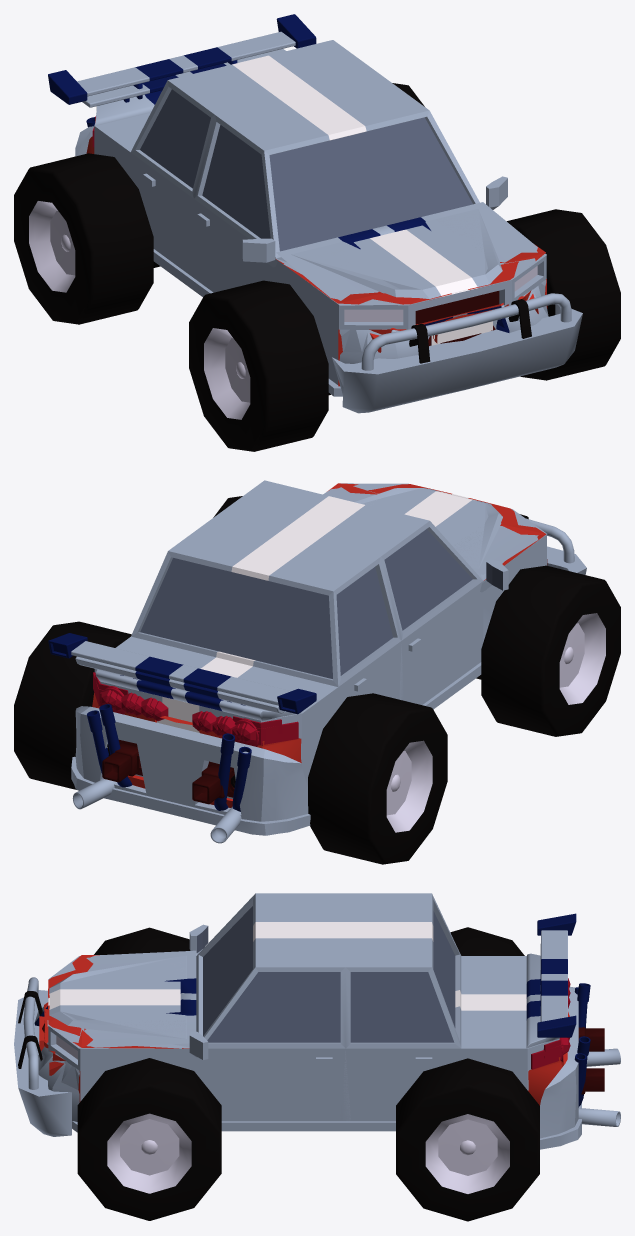
File: SUV.fbx
The picture shows the model from 3 angles, top to bottom: view 1: azimuth 30°, elevation 25°; view 2: azimuth 150°, elevation 25°; view 3: azimuth 270°, elevation 25°; orthographic projection. The views are drawn at different scales.
Parts seen in each view (by area): view 1: bumper3.002, carcas, BigWheel.009, BigWheel.008, frontBumper.002, BigWheel.010, engine1, sportBumper2.001, spoiler3.003, sedanEngine2, bumper, engine2.002 (+5 smaller); view 2: carcas, bumper3.002, BigWheel.009, BigWheel.008, backBumper.002, BigWheel.011, bumper, spoiler3.003, engine1, sportBumper2.001, sportBumper3.001, sedanBumper3.001 (+10 smaller); view 3: bumper3.002, carcas, bumper, BigWheel.010, BigWheel.011, engine1, sportBumper2.001, bumper2, frontBumper.002, spoiler3.003, sedanEngine2, backBumper.002 (+9 smaller).
Boxes of the visible parts, x1,y1,x2,y2 form: bumper3.002: (136, 89, 544, 396); carcas: (94, 40, 546, 384); BigWheel.009: (189, 280, 328, 451); BigWheel.008: (14, 153, 153, 324); frontBumper.002: (332, 293, 582, 413); BigWheel.010: (507, 209, 620, 380); engine1: (276, 209, 526, 305); sportBumper2.001: (95, 116, 547, 385); spoiler3.003: (48, 14, 316, 104); sedanEngine2: (276, 202, 546, 305); bumper: (130, 115, 545, 348); engine2.002: (276, 209, 502, 302); carcas: (94, 480, 546, 786); bumper3.002: (72, 529, 508, 843); BigWheel.009: (481, 565, 620, 736); BigWheel.008: (308, 693, 447, 864); backBumper.002: (71, 706, 310, 835); BigWheel.011: (14, 621, 131, 789); bumper: (101, 552, 505, 760); spoiler3.003: (48, 633, 316, 714); engine1: (362, 483, 521, 580); sportBumper2.001: (95, 559, 547, 772); sportBumper3.001: (92, 556, 436, 807); sedanBumper3.001: (87, 688, 301, 811); bumper3.002: (72, 906, 620, 1132); carcas: (48, 893, 559, 1120); bumper: (48, 932, 570, 1121); BigWheel.010: (77, 1058, 221, 1220); BigWheel.011: (396, 1058, 539, 1221); engine1: (48, 955, 189, 1048); sportBumper2.001: (39, 927, 569, 1121); bumper2: (48, 1043, 561, 1131); frontBumper.002: (14, 977, 71, 1136); spoiler3.003: (537, 913, 576, 1037); sedanEngine2: (49, 950, 196, 1048); backBumper.002: (540, 986, 581, 1149).
Bounding box in the file's own units: 3.79 × 2.36 × 6.1.
